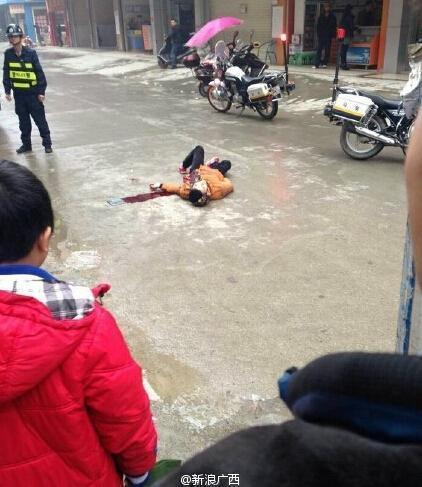Fall-Detected: (146, 136, 240, 210)
